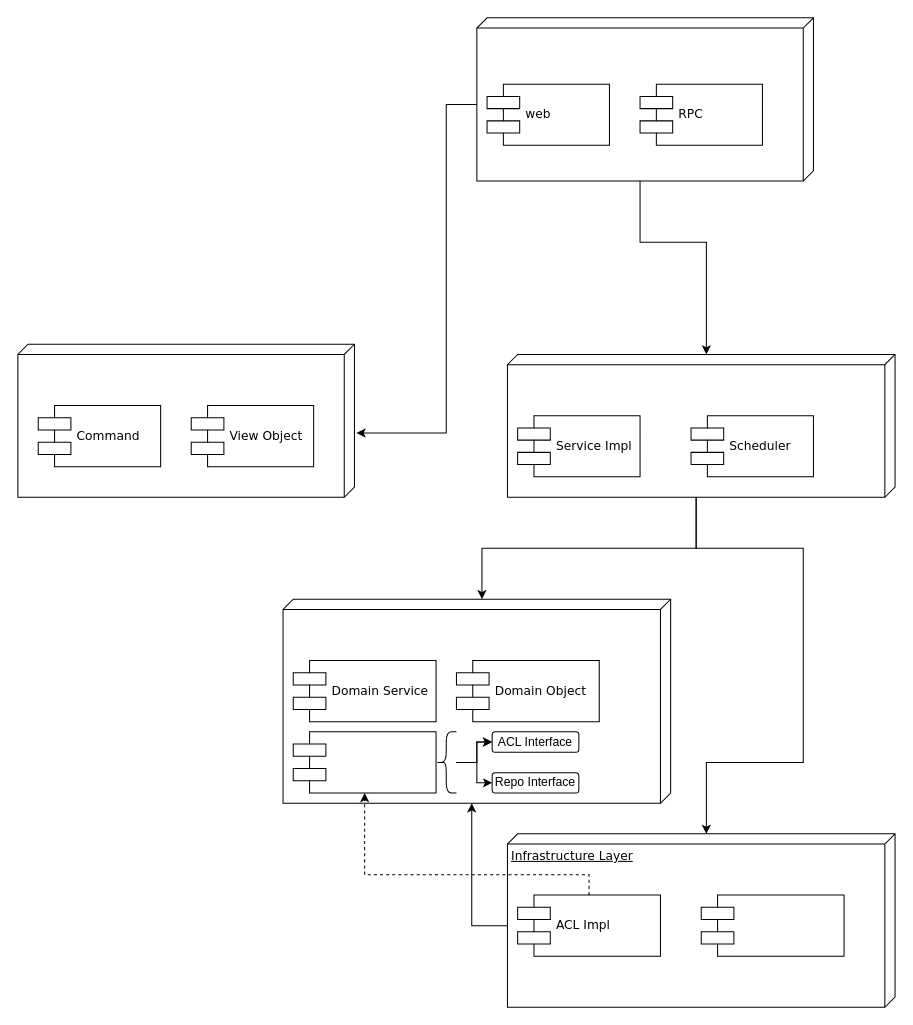
The diagram is 913 pixels wide and 1025 high, and some of its shapes have lost their labels. The box of each missing label's shape, as (x1, y1, x2, y2) in pixels:
Adapter Layer: (476, 17, 813, 181)
Application Layer: (506, 353, 895, 497)
Client: (17, 343, 354, 497)
Domain Layer: (282, 598, 671, 803)
Facade: (292, 731, 436, 793)
Repository Impl: (700, 894, 844, 956)
